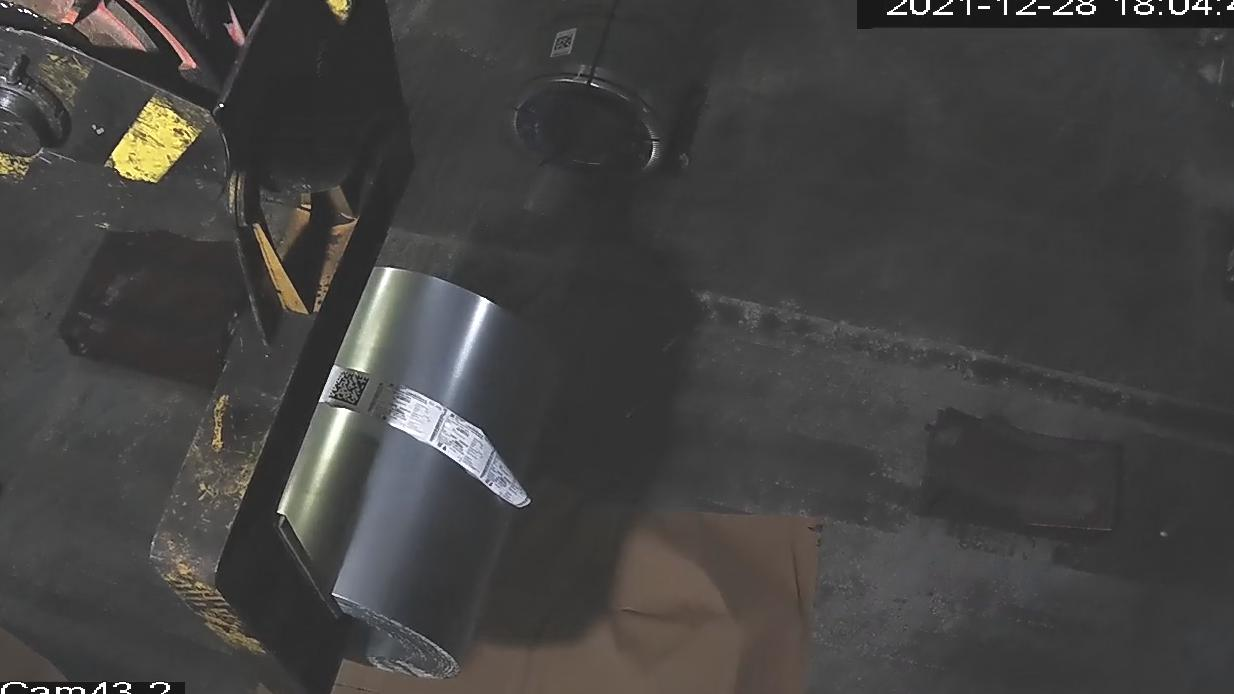data matrix: (327, 369, 374, 410), (552, 33, 577, 55)
